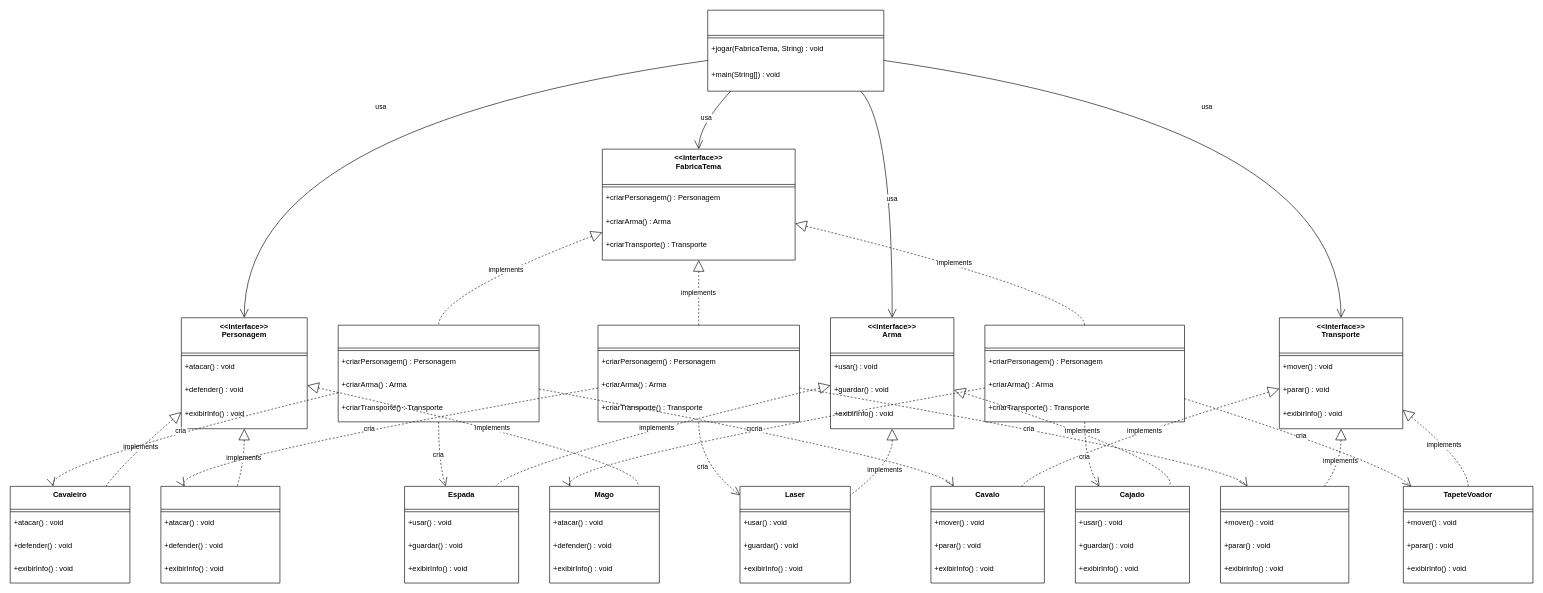
The diagram is 1543 pixels wide and 593 high, and some of its shapes have lost their labels. The box of each missing label's shape, as (x1, y1, x2, y2) in pixels:
Androide: (160, 486, 280, 583)
App: (707, 10, 884, 91)
FabricaFantasia: (984, 325, 1185, 422)
FabricaFuturista: (597, 325, 799, 422)
FabricaMedieval: (338, 325, 539, 422)
NaveEspacial: (1220, 486, 1349, 583)
